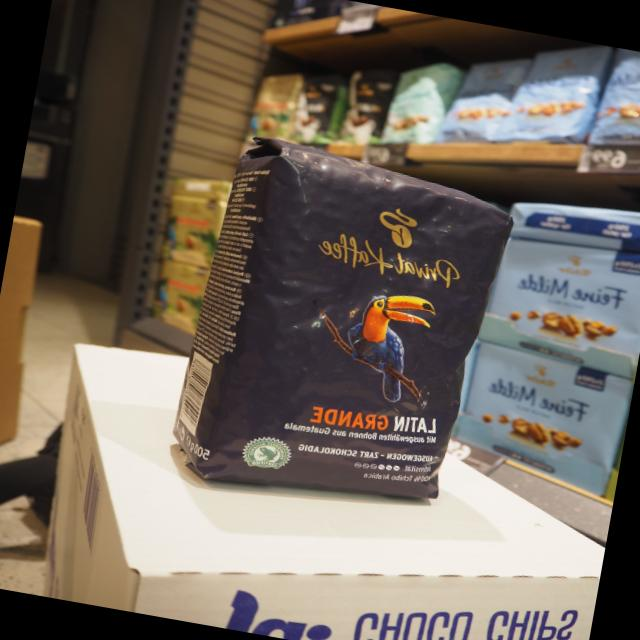LG Bohne: (159, 124, 527, 503)
